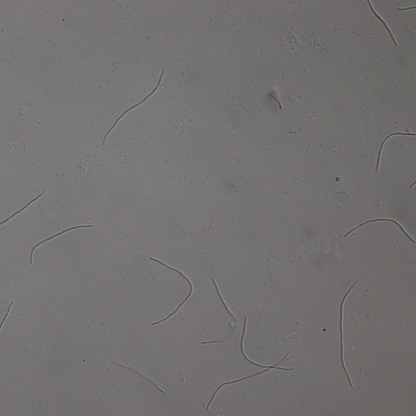Sensitive: (206, 314, 293, 410), (103, 67, 165, 144), (150, 254, 194, 329), (199, 276, 238, 347), (28, 222, 93, 264), (343, 214, 416, 245), (338, 281, 358, 388), (375, 130, 416, 174), (1, 188, 44, 227), (115, 362, 164, 391), (367, 1, 396, 43)
